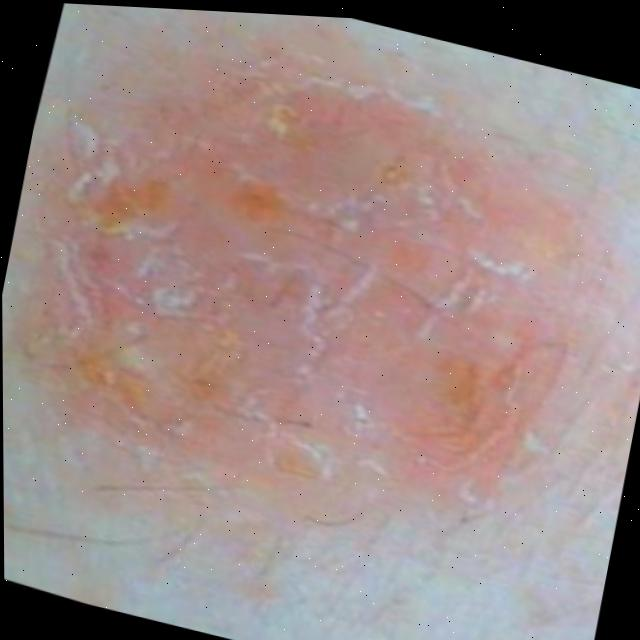Eczema: (14, 19, 602, 550)
